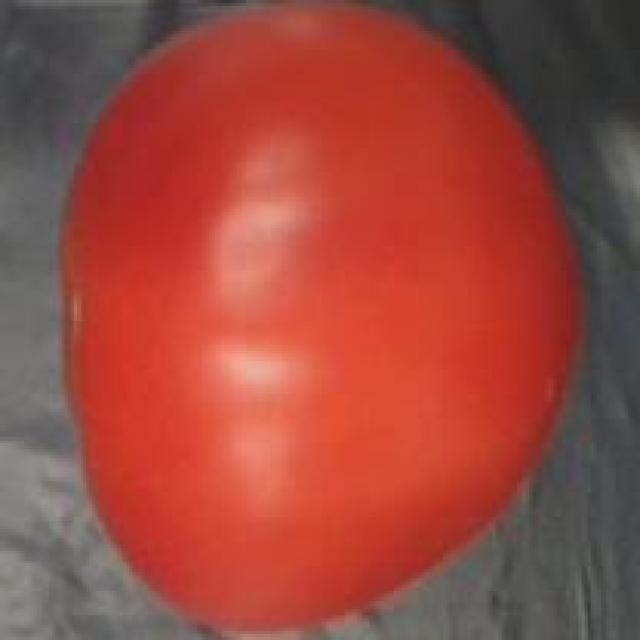ripe tomato: (52, 0, 591, 640)
